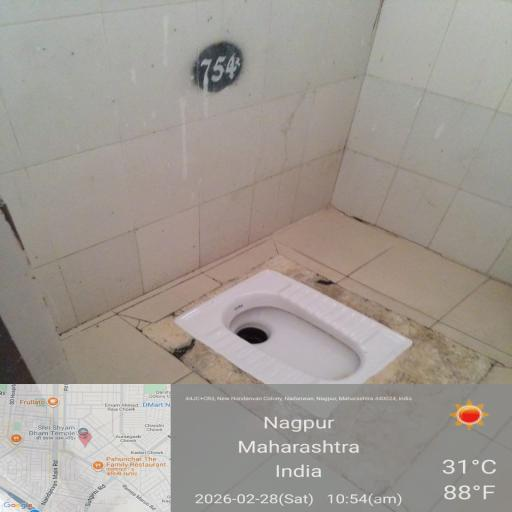clean_floor: (62, 222, 454, 512), (1, 46, 498, 211)
clean_indian: (192, 268, 417, 412)
